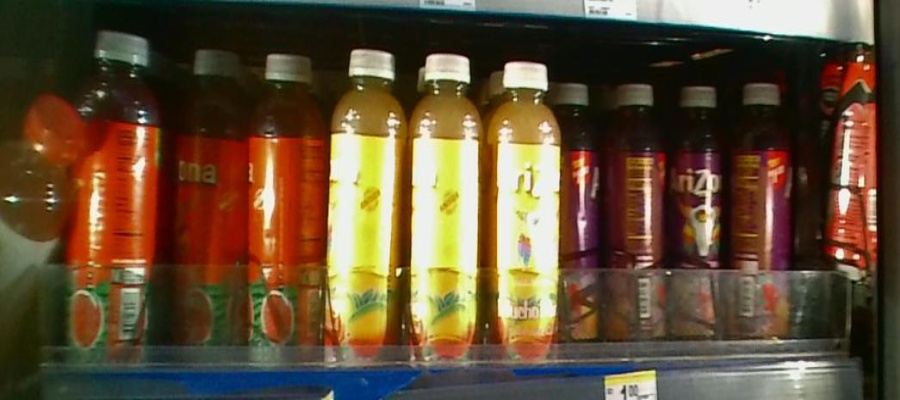bottle: (70, 23, 162, 388), (324, 35, 406, 379), (247, 30, 325, 382), (407, 41, 486, 380), (169, 32, 245, 373), (483, 35, 558, 379), (724, 66, 792, 348), (606, 68, 667, 352), (671, 66, 723, 343), (561, 73, 605, 351)
